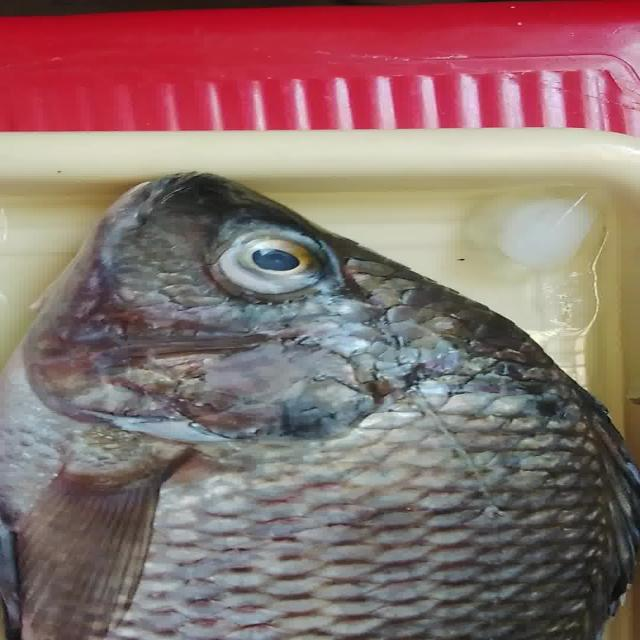Fresh: (2, 340, 640, 640), (202, 229, 358, 302)
